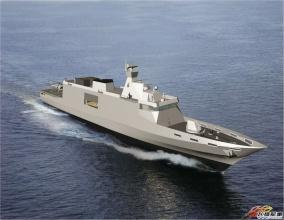warship: (34, 59, 265, 169)
